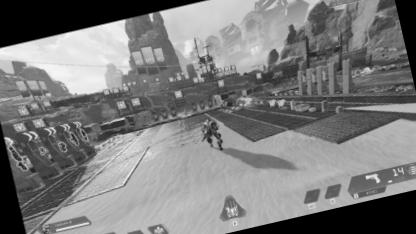Target: (200, 115, 225, 152)
